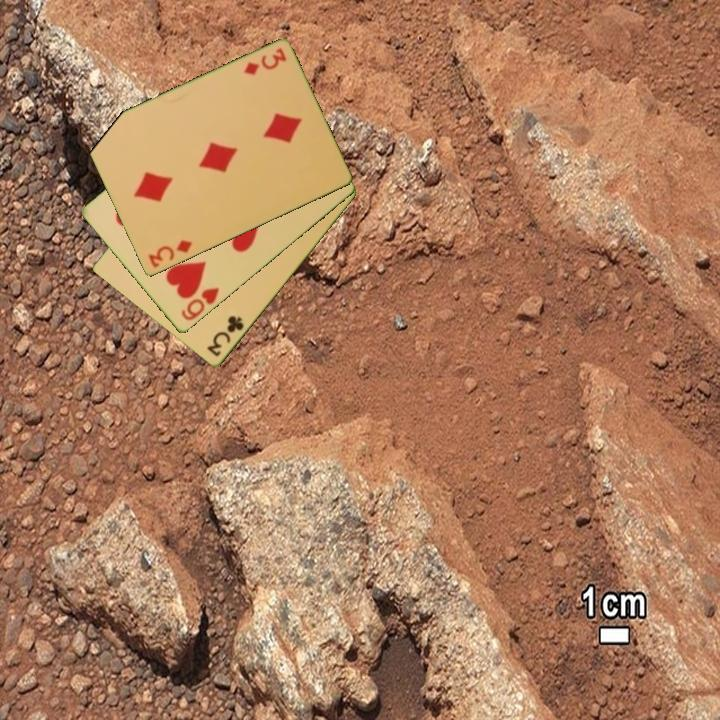3c: (203, 312, 247, 360)
3d: (145, 236, 195, 271), (240, 44, 289, 78)
6h: (178, 284, 222, 324)
